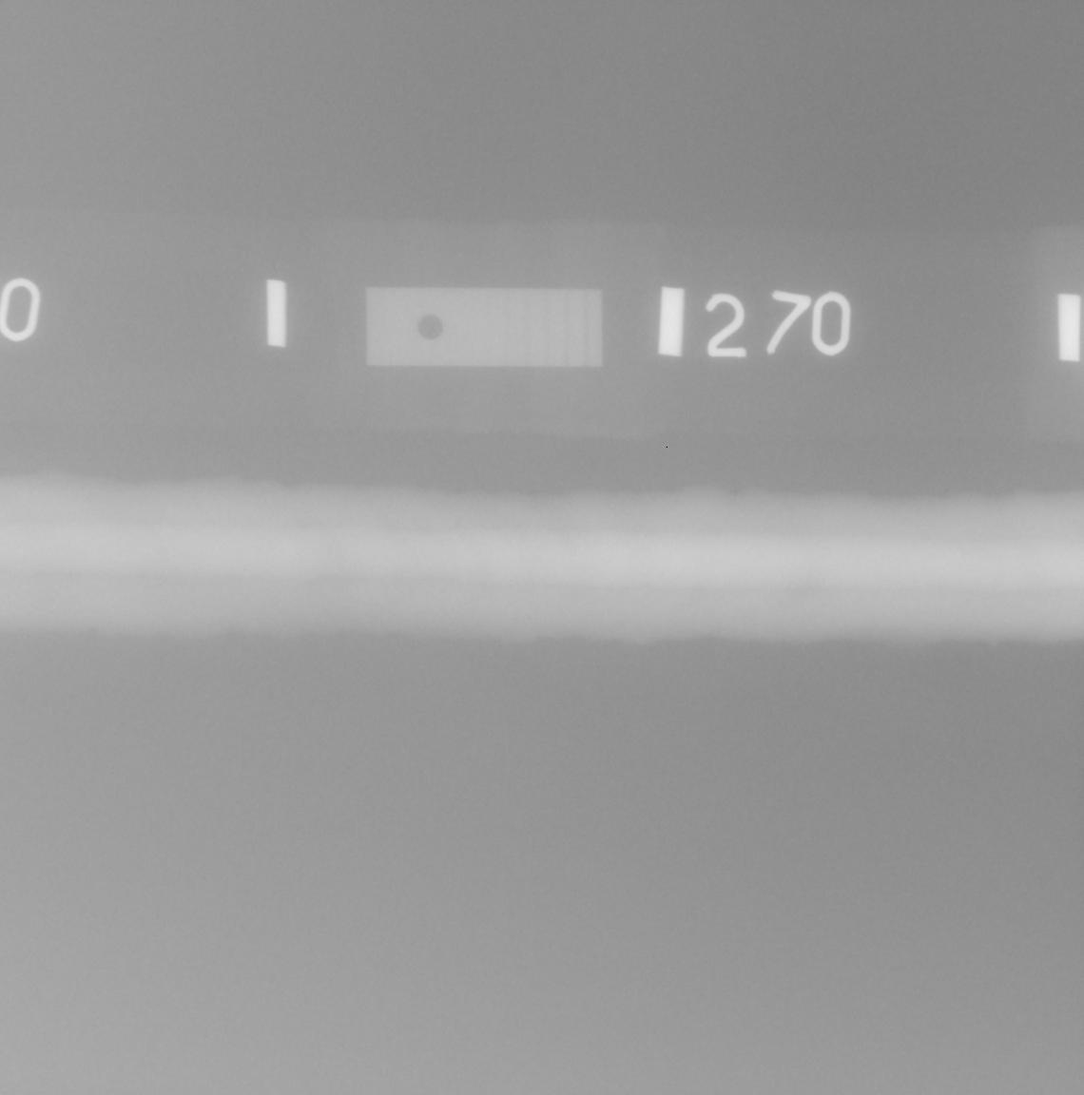Reference Standard 1: (367, 287, 603, 367)
